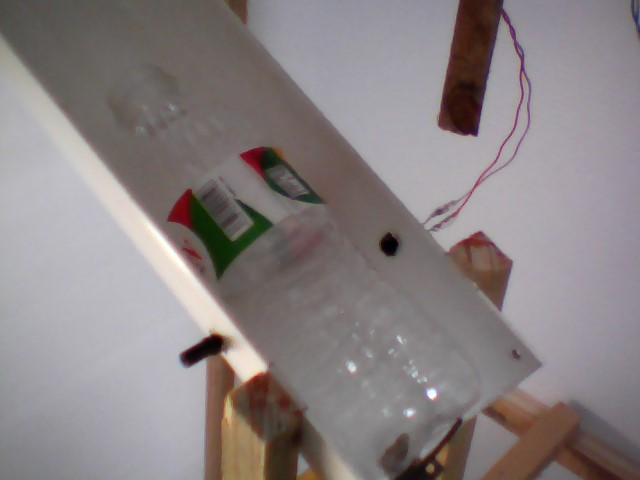plastico: (98, 65, 491, 480)
